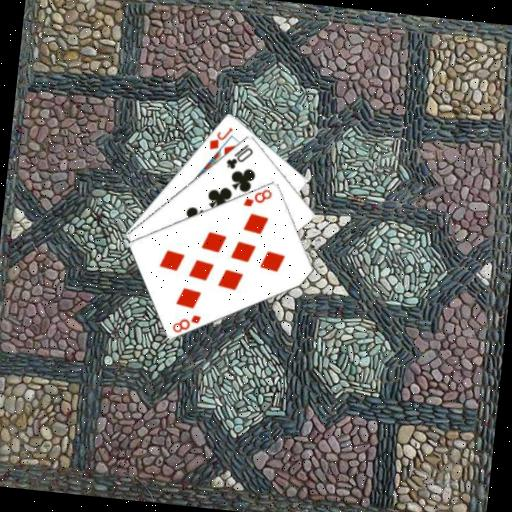10C: (222, 138, 256, 173)
8D: (169, 309, 203, 337), (240, 183, 274, 210)
JD: (206, 122, 235, 153)
